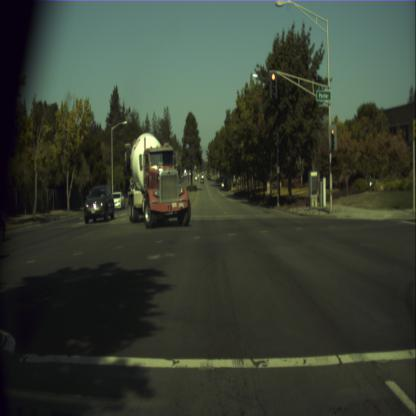Red: (270, 70, 276, 94), (331, 129, 334, 146)
